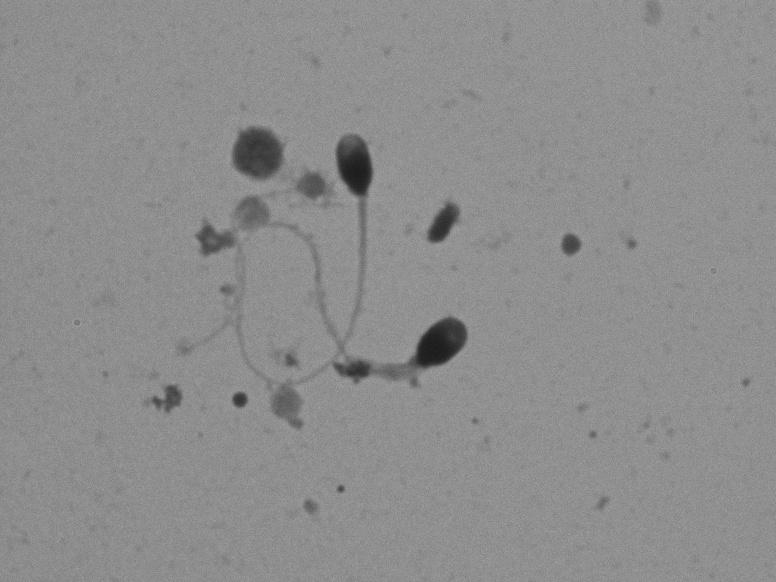Abnormal: (214, 214, 489, 394)
Normal: (161, 123, 388, 404)
